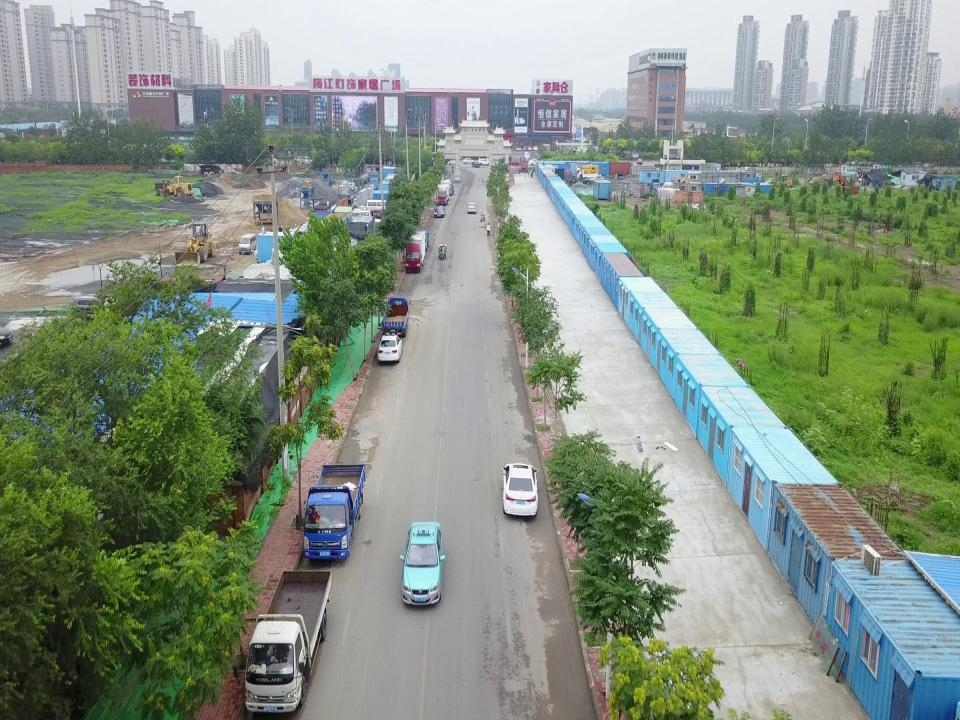car: (401, 523, 445, 609), (502, 462, 540, 516), (70, 292, 120, 323), (377, 334, 403, 365), (368, 209, 392, 227), (434, 205, 446, 218), (466, 202, 478, 213), (462, 158, 476, 165), (446, 158, 460, 165), (508, 159, 521, 166), (528, 159, 542, 165), (479, 158, 489, 166), (470, 161, 480, 168)
truck: (232, 568, 332, 712), (296, 463, 368, 561), (381, 296, 411, 338), (404, 231, 426, 274), (438, 184, 450, 204), (440, 179, 454, 196)
van: (345, 209, 372, 225), (238, 232, 256, 255), (366, 199, 392, 214), (523, 151, 530, 160)
